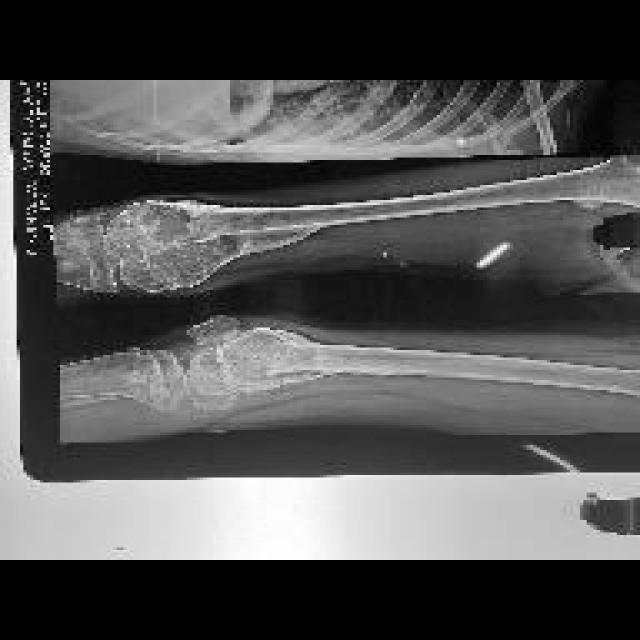bone-cancer: (105, 200, 240, 292), (217, 328, 318, 396)
